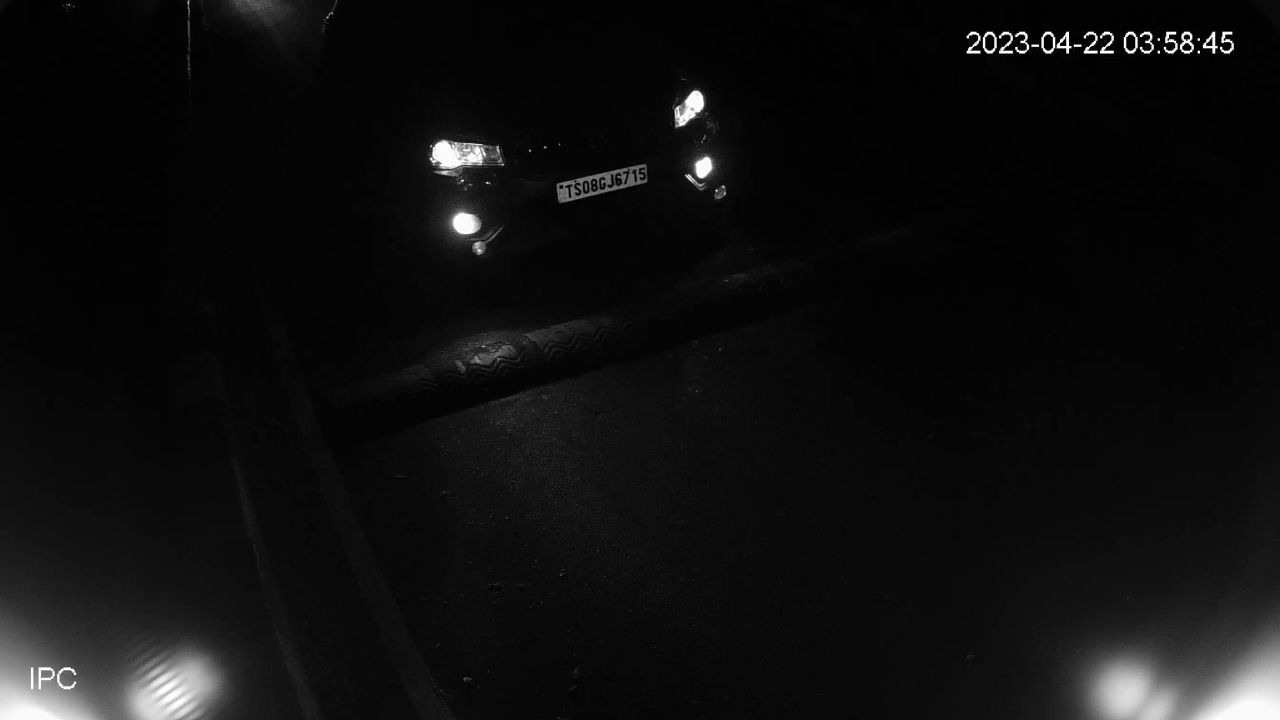license_plate: (553, 157, 653, 211)
